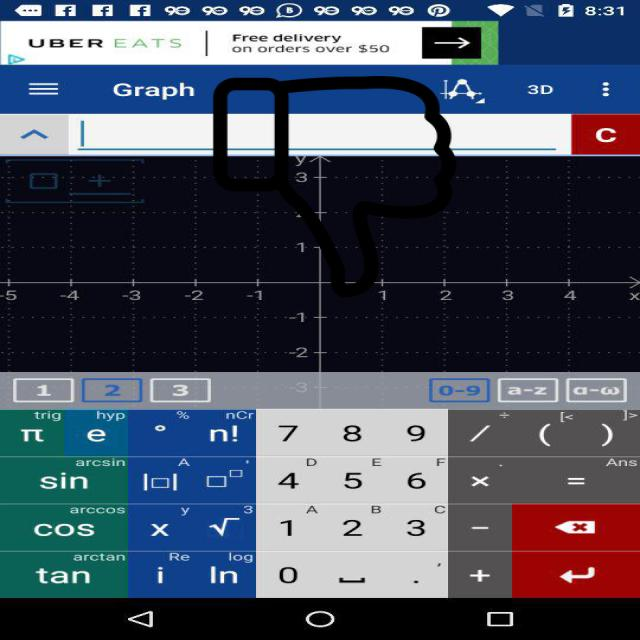obstruction: (210, 76, 460, 297)
